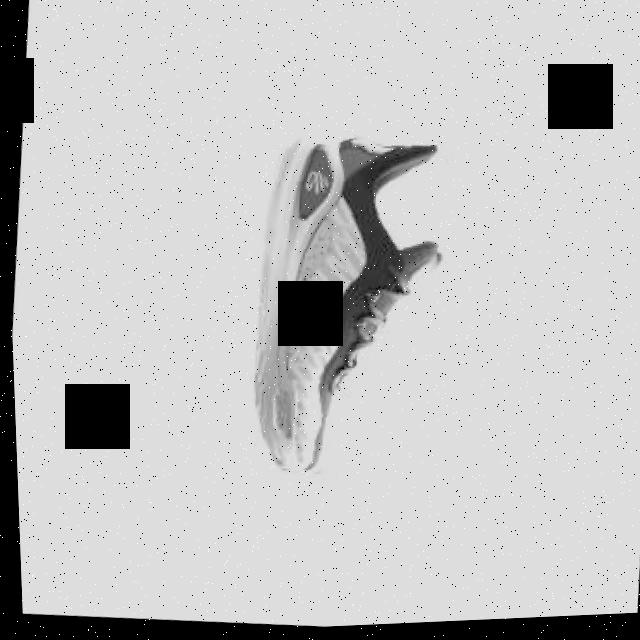shoe: (236, 127, 455, 494)
